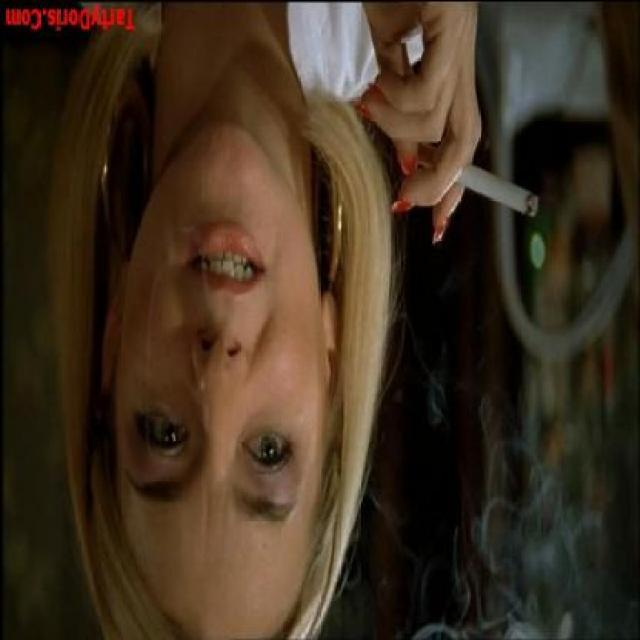cigarette: (412, 138, 546, 218)
